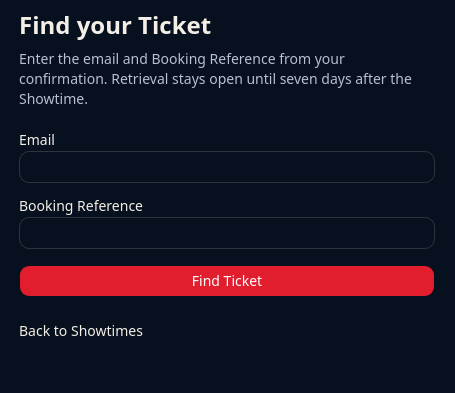
Test: RetrieveTicketPage › explains rate limiting
Type "aisyah@example.com" into the field labelled "Email" at (227, 167), box [19,151,435,183]
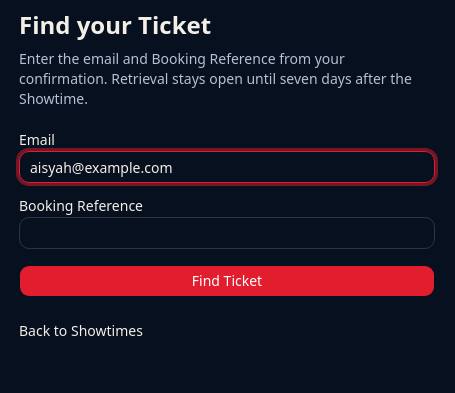
Type "K7QX2M9T4D" into the field labelled "Booking Reference" at (227, 233), box [19,217,435,249]
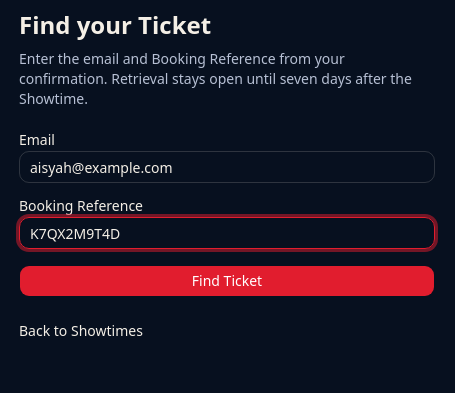
Click the button "Find Ticket" at (227, 281), box [19,265,435,297]
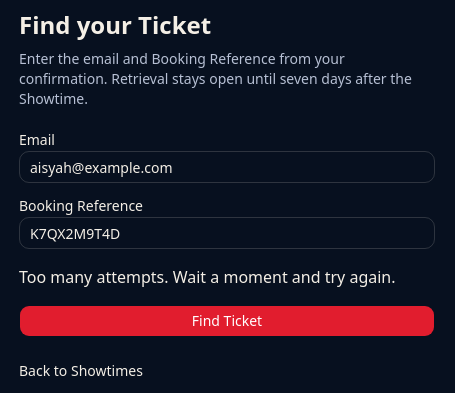
Expected: the message reads "Too many attempts. Wait a moment and try again.", [19,266,396,288]
